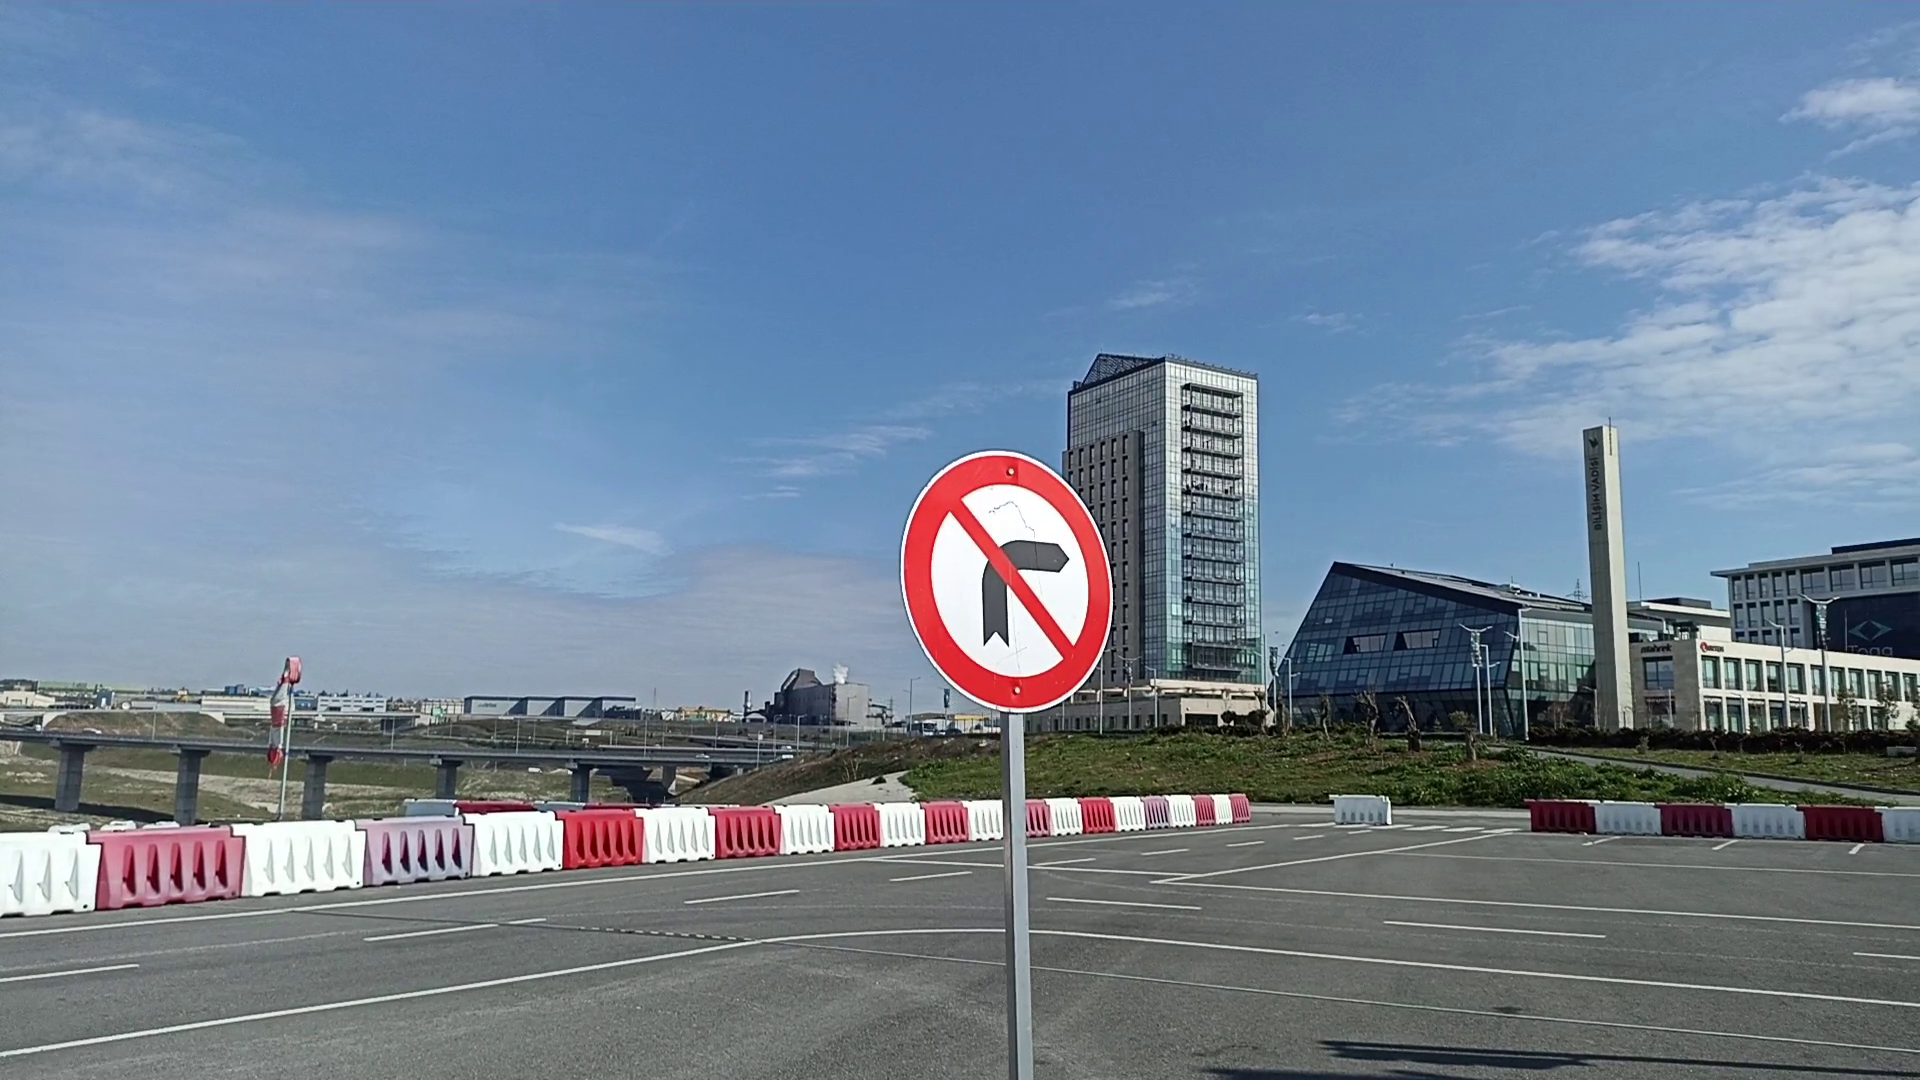noleftturn: (897, 447, 1121, 720)
